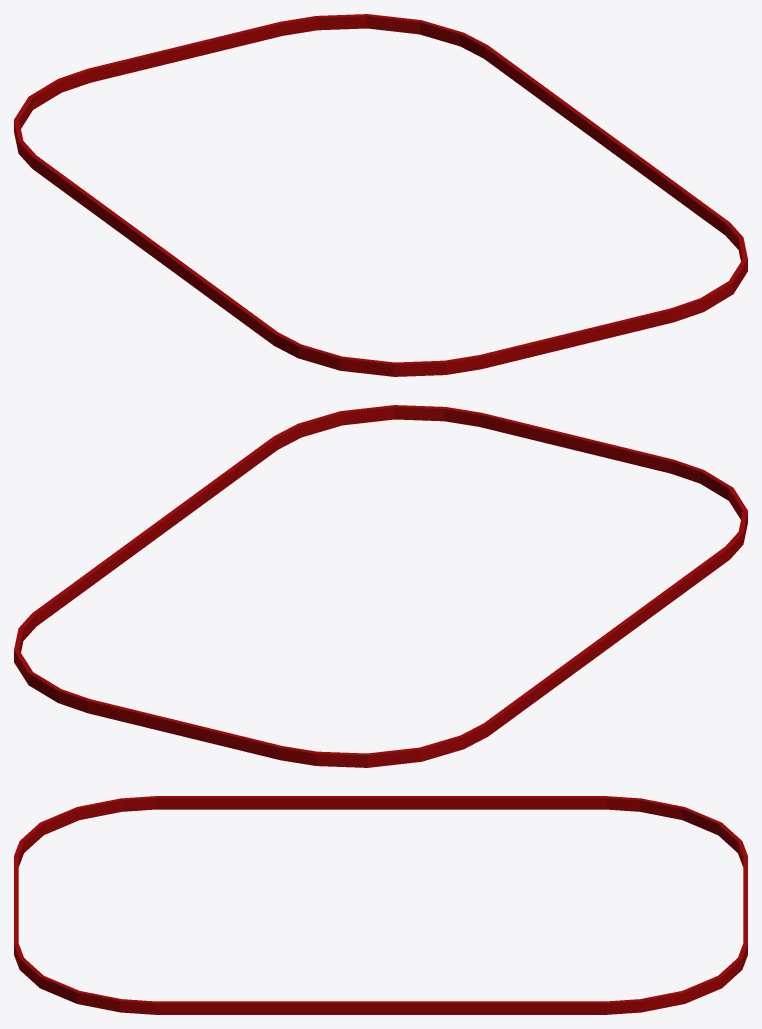
File: Topedge.FBX
The picture shows the model from 3 angles, top to bottom: view 1: azimuth 30°, elevation 25°; view 2: azimuth 150°, elevation 25°; view 3: azimuth 270°, elevation 25°; orthographic projection. The views are drawn at different scales.
Parts seen in each view (by area): view 1: TopEdge; view 2: TopEdge; view 3: TopEdge.
Boxes of the visible parts, x1=… form: TopEdge: x1=14, y1=14, x2=747, y2=376; TopEdge: x1=14, y1=405, x2=747, y2=767; TopEdge: x1=14, y1=796, x2=747, y2=1014.
Size of the model in its own units: 53.35 by 1.38 by 79.82.
